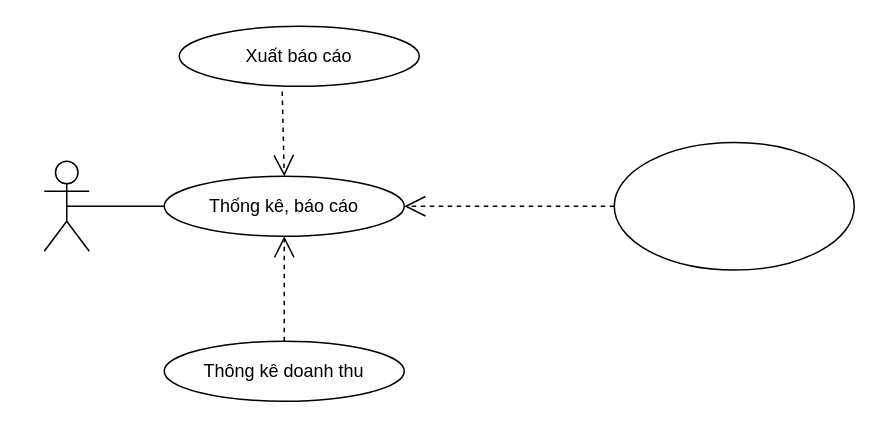
Image size: 881x428. Some labels were removed from this diagram. Here are the shapes that lost their labels. From the top down, the centre of each, then its label:
the point at 66,205: Nhân viên
the point at 733,205: Thống kê những sản phẩm đang bán chạy
